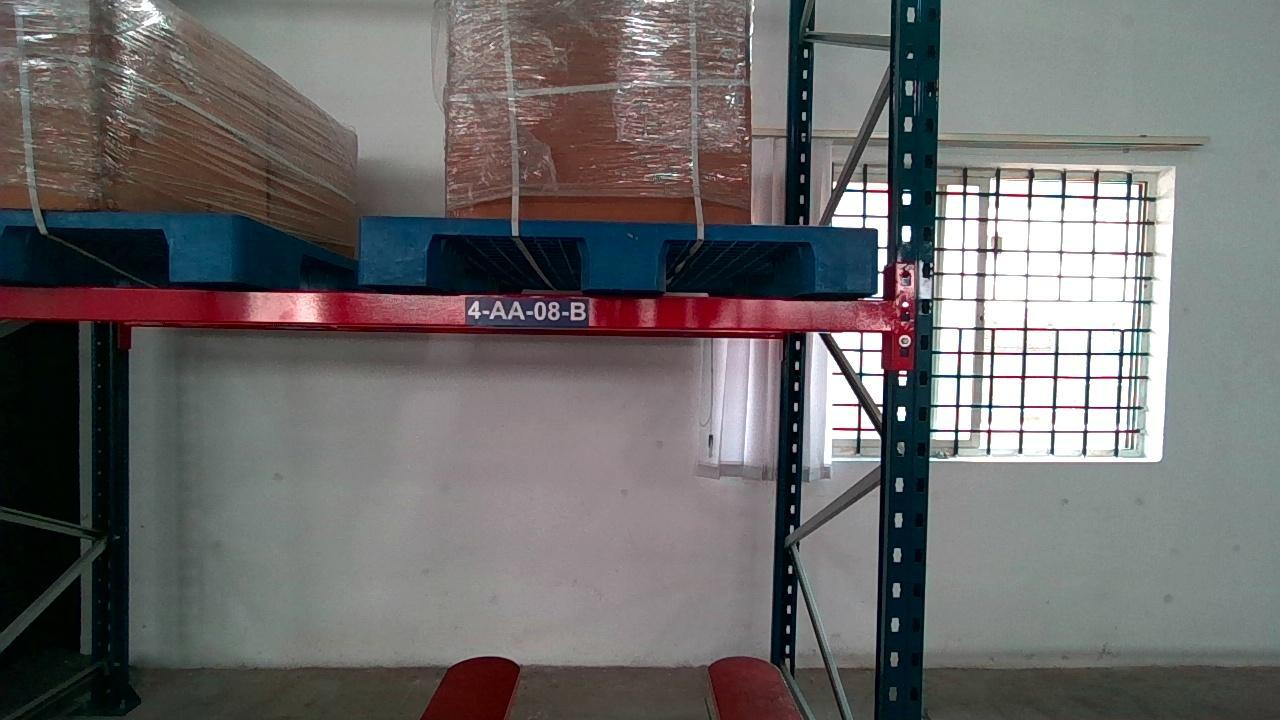h_rack: (0, 287, 891, 330)
small_pallet: (361, 215, 875, 287)
